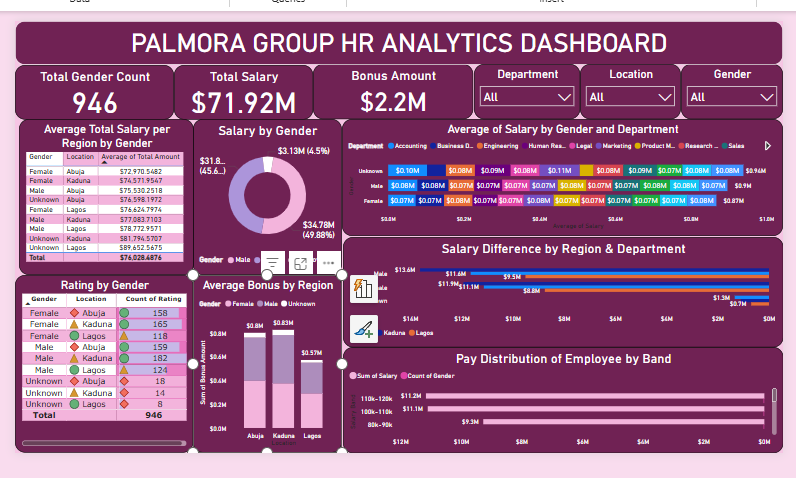

This screenshot's page, from the dashboard's own definition file:
{"tool":"powerbi","page":{"name":"Dashboard ","canvas":[1280,720],"ordinal":0},"visuals":[{"type":"card","title":"Total Gender Count","fields":{"Values":["CountNonNull(Merge1.Gender)"]},"box":[0,72.8,265.4,91],"z":0},{"type":"card","title":"Total Salary","fields":{"Values":["Sum(Merge1.Total Amount)"]},"box":[265.4,72.8,232,91],"z":1000},{"type":"card","title":" Bonus Amount","fields":{"Values":["Sum(Merge1.Bonus Amount)"]},"box":[497.3,72.1,267.4,91.6],"z":2000},{"type":"donutChart","title":"Salary by Gender","fields":{"Category":["Merge1.Gender"],"Y":["Sum(Merge1.Salary)"]},"box":[297.5,163.8,247.9,259.9],"z":3000},{"type":"tableEx","title":"Average Total Salary per Region by Gender","fields":{"Values":["Merge1.Gender","Merge1.Location","Merge1.Total Amount"]},"box":[6,163.8,291.5,259.9],"z":4000},{"type":"barChart","fields":{"Category":["Merge1.Gender"],"Series":["Merge1.Department"],"Y":["Avg(Merge1.Salary)"]},"box":[545.4,163.8,734.6,195.3],"z":5000},{"type":"tableEx","title":"Rating by Gender","fields":{"Values":["Merge1.Gender","Merge1.Location","Merge1.Rating"]},"box":[0,423.7,297.5,296],"z":6000},{"type":"clusteredBarChart","title":"Pay Distribution of Employee by Band","fields":{"Category":["Merge1.Salary Band"],"Y":["Sum(Merge1.Salary)","CountNonNull(Merge1.Gender)"]},"box":[546,542.9,734,177.4],"z":7000},{"type":"slicer","title":"Gender","fields":{"Values":["Merge1.Gender"]},"box":[1110.2,72.1,169.8,91.6],"z":8000},{"type":"textbox","box":[0,0,1280,72.8],"z":9000},{"type":"clusteredBarChart","title":"Salary Difference by Region & Department","fields":{"Series":["Merge1.Location"],"Category":["Merge1.Gender","Merge1.Department"],"Y":["Sum(Merge1.Salary)"]},"box":[546,359.4,734,183.5],"z":10000},{"type":"slicer","title":"Location","fields":{"Values":["Merge1.Location"]},"box":[942,72.1,168.3,91.6],"z":11000},{"type":"slicer","title":"Department","fields":{"Values":["Merge1.Department"]},"box":[764.7,72.1,177.3,91.6],"z":12000},{"type":"columnChart","title":"Average Bonus by Region ","fields":{"Category":["Merge1.Location"],"Y":["Sum(Merge1.Bonus Amount)"],"Series":["Merge1.Gender"]},"box":[297.5,423.7,247.9,296],"z":13000}]}

Visuals, with their boxes on the page's 1280x720 design canvas (x1, y1, x2, y2). These are canvas units, not pixel positions in the 796x478 screenshot, which may show the page scaled, cropped or inside an application window:
"Total Gender Count" card: 0 73 265 164
"Total Salary" card: 265 73 497 164
" Bonus Amount" card: 497 72 765 164
"Salary by Gender" donutChart: 298 164 545 424
"Average Total Salary per Region by Gender" tableEx: 6 164 298 424
barChart - Merge1.Gender x Merge1.Department: 545 164 1280 359
"Rating by Gender" tableEx: 0 424 298 720
"Pay Distribution of Employee by Band" clusteredBarChart: 546 543 1280 720
"Gender" slicer: 1110 72 1280 164
textbox: 0 0 1280 73
"Salary Difference by Region & Department" clusteredBarChart: 546 359 1280 543
"Location" slicer: 942 72 1110 164
"Department" slicer: 765 72 942 164
"Average Bonus by Region " columnChart: 298 424 545 720
